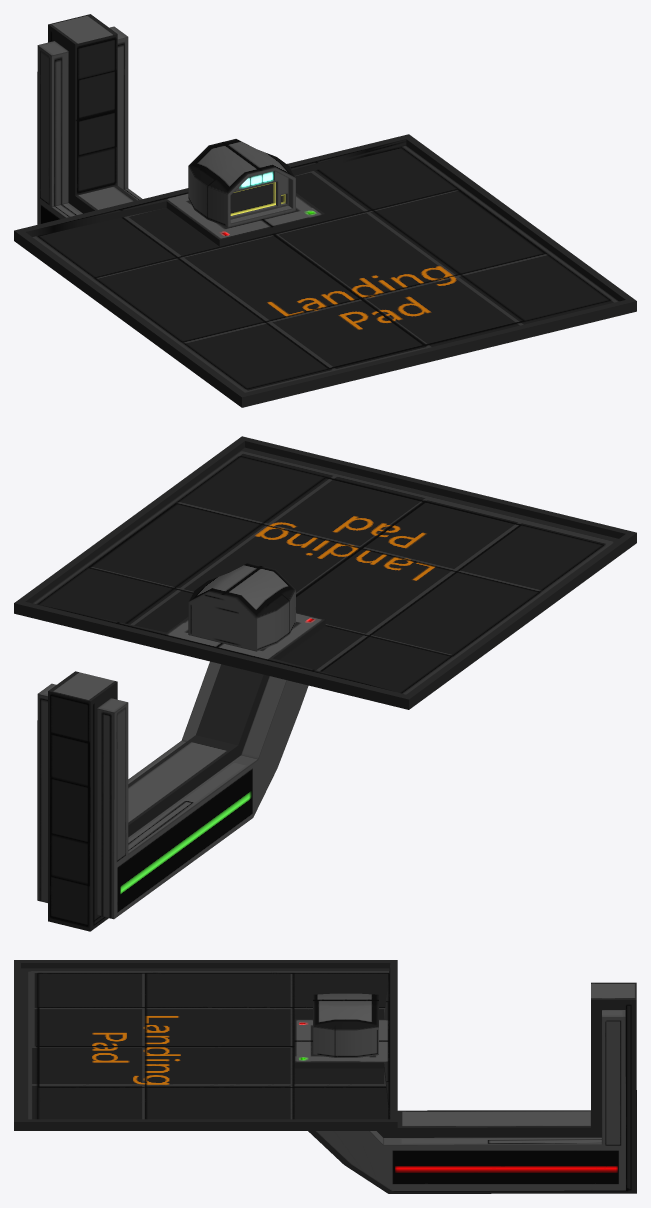
The model's file is Landing Pad.fbx.
3 views of the same model, one above another, from view 1: azimuth 30°, elevation 25°; view 2: azimuth 150°, elevation 25°; view 3: azimuth 270°, elevation 25° (orthographic). The views are drawn at different scales.
Visible parts, largest first — view 1: Cube; view 2: Cube; view 3: Cube.
Part boxes in pixels (x1,y1,x2,y2): Cube: [14, 14, 636, 407]; Cube: [14, 436, 636, 931]; Cube: [14, 960, 636, 1193].
Bounding box in the file's own units: 337 × 188 × 547.
1 material, 1 textured.
